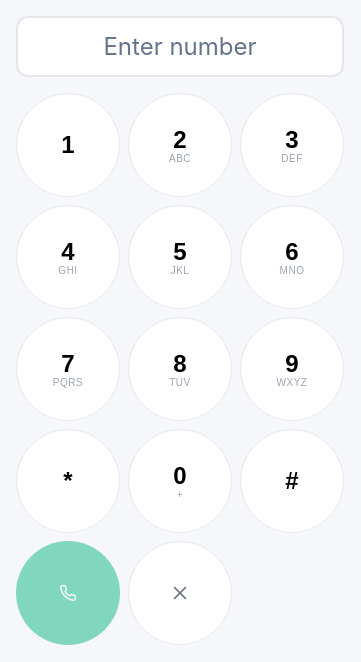
Dialpad.vue › Digit Input › should handle special characters
Click the button with test id "dtmf-*".
click(68, 481)  # box [16,429,120,533]
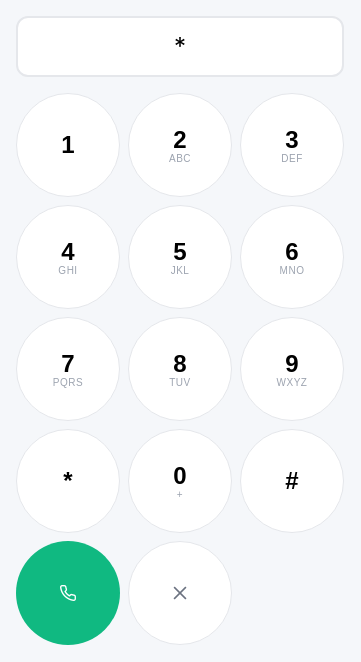
Click the button with test id "dtmf-#".
click(292, 481)  # box [240,429,344,533]
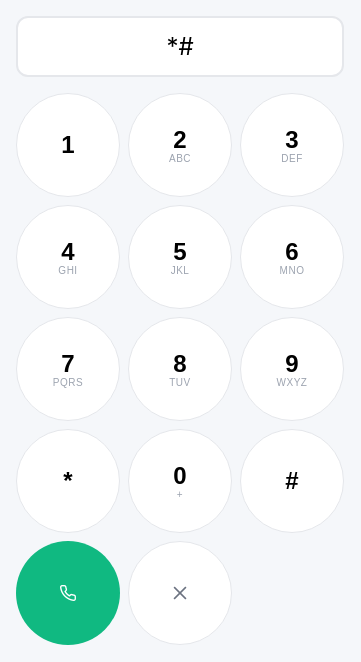
Expected: the field with test id "dialpad-input" holds "*#", [16,16,344,77]
